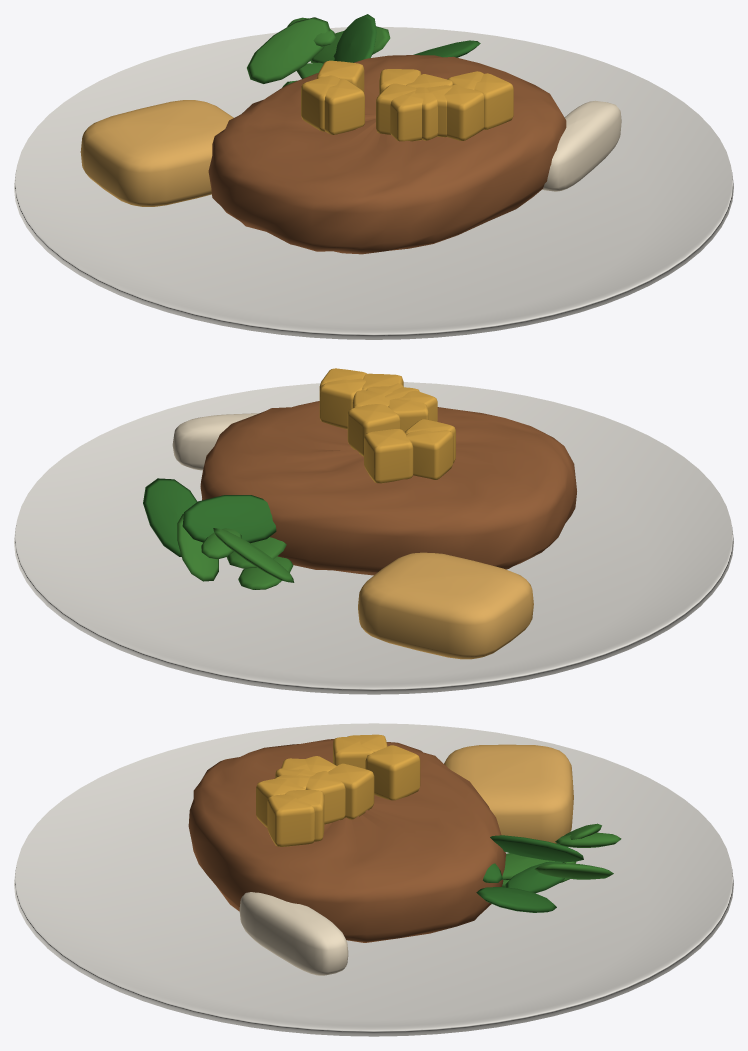
The model's file is bisteca-com-maca.glb.
3 renders of one model, top to bottom at view 1: azimuth 30°, elevation 25°; view 2: azimuth 150°, elevation 25°; view 3: azimuth 270°, elevation 25°, orthographic.
Visible parts, largest first — view 1: bisteca-com-maca; view 2: bisteca-com-maca; view 3: bisteca-com-maca.
Boxes of the visible parts, left/top/right/bottom form: bisteca-com-maca: left=14, top=14, right=733, bottom=339; bisteca-com-maca: left=14, top=368, right=733, bottom=694; bisteca-com-maca: left=14, top=723, right=733, bottom=1036.
Bounding box in the file's own units: 0.27 × 0.071 × 0.27.
